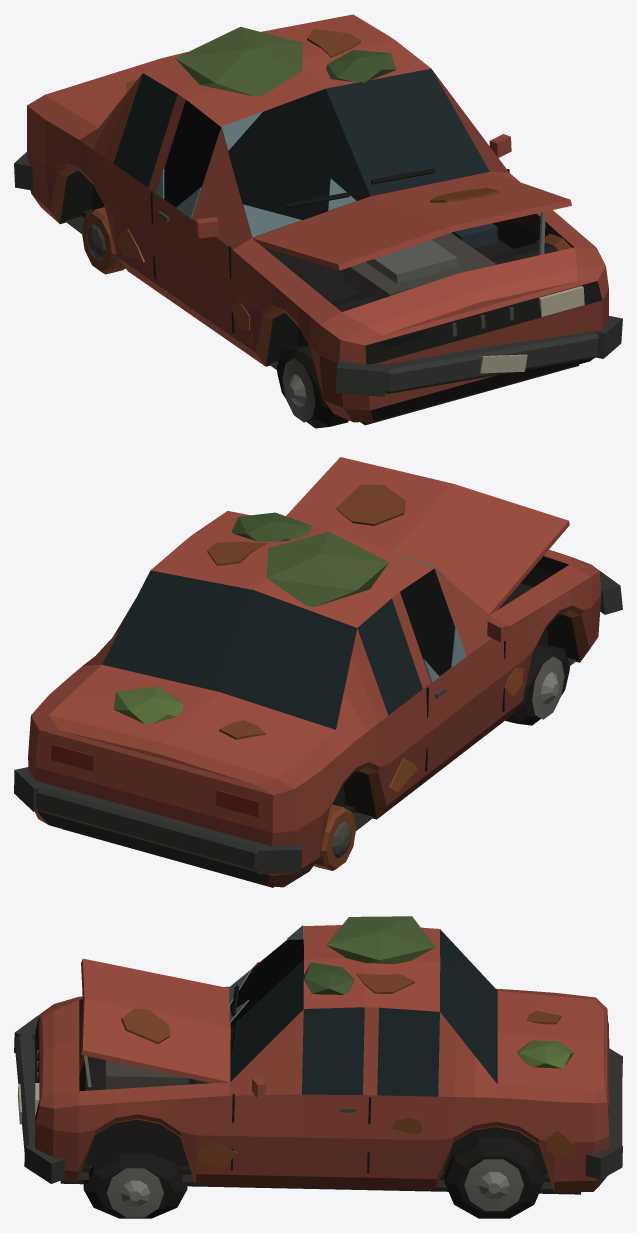
The model's file is carro_abandonado.glb.
The picture shows the model from 3 angles, top to bottom: view 1: azimuth 30°, elevation 25°; view 2: azimuth 150°, elevation 25°; view 3: azimuth 270°, elevation 25°; orthographic projection. The views are drawn at different scales.
Visible parts, largest first — view 1: carro_abandonado.001; view 2: carro_abandonado.001; view 3: carro_abandonado.001.
Part boxes in pixels (left/top/right/bottom): carro_abandonado.001: left=14, top=14, right=622, bottom=428; carro_abandonado.001: left=14, top=457, right=622, bottom=887; carro_abandonado.001: left=14, top=916, right=622, bottom=1218.
Bounding box in the file's own units: 1.75 × 1.34 × 3.4.
